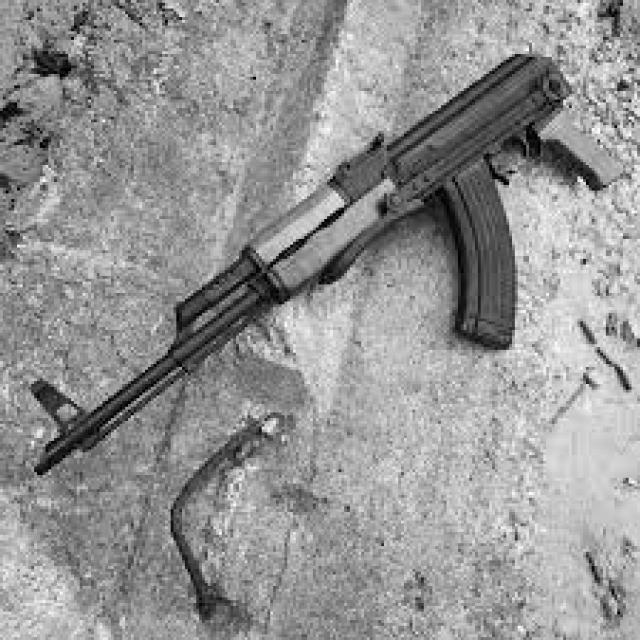gun: (31, 60, 624, 474)
